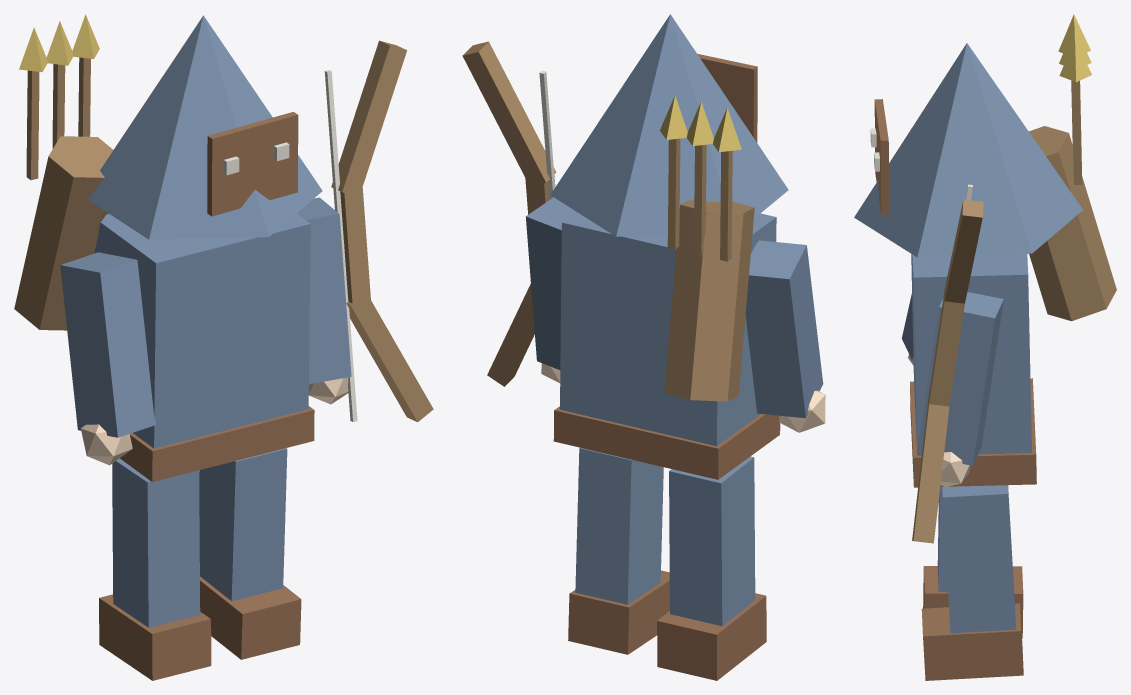
The model's file is npcpose_archer_idle_02.glb.
3 renders of one model, left to right at view 1: azimuth 30°, elevation 25°; view 2: azimuth 150°, elevation 25°; view 3: azimuth 270°, elevation 25°, orthographic. The views are drawn at different scales.
Parts seen in each view (by area): view 1: npcpose; view 2: npcpose; view 3: npcpose.
Part boxes in pixels (x1=…): npcpose: x1=14, y1=14, x2=433, y2=680; npcpose: x1=462, y1=14, x2=825, y2=680; npcpose: x1=854, y1=14, x2=1116, y2=680.
Size of the model in its own units: 0.9098 by 1.62 by 0.6411.
